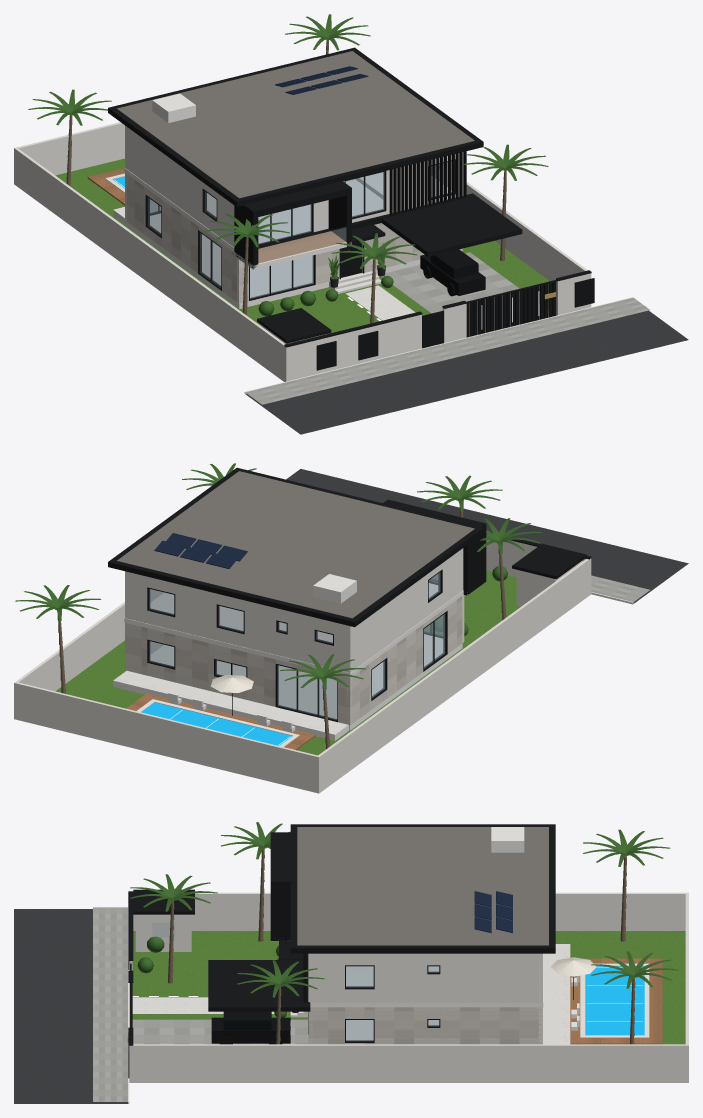
The model's file is villa-onyx.glb.
3 renders of one model, top to bottom at view 1: azimuth 30°, elevation 25°; view 2: azimuth 150°, elevation 25°; view 3: azimuth 270°, elevation 25°, orthographic. The views are drawn at different scales.
Parts seen in each view (by area): view 1: parcelle, exterieur; view 2: exterieur, parcelle; view 3: parcelle, exterieur.
Part boxes in pixels (x1,y1,x2,y2): parcelle: [14, 14, 688, 434]; exterieur: [108, 47, 522, 308]; exterieur: [108, 467, 486, 730]; parcelle: [14, 463, 688, 793]; parcelle: [14, 822, 688, 1103]; exterieur: [208, 824, 555, 1044].
Bounding box in the file's own units: 28 × 8.94 × 41.
Materials: 37 (12 with a texture image).
